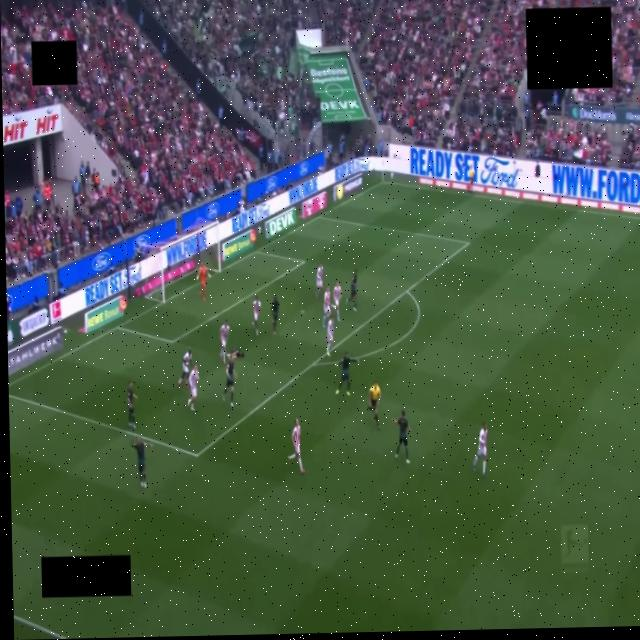player: (133, 437, 152, 488), (393, 410, 411, 463), (336, 352, 357, 395), (289, 419, 305, 474), (473, 422, 487, 477), (223, 354, 236, 407), (178, 349, 192, 387), (188, 366, 199, 411), (197, 264, 209, 300), (219, 320, 229, 363), (128, 381, 137, 428), (347, 270, 357, 311), (252, 296, 261, 335), (322, 287, 330, 328), (333, 282, 341, 321), (271, 297, 279, 335), (326, 315, 333, 356), (316, 265, 323, 298), (230, 350, 244, 360)
referee: (368, 382, 381, 429)
